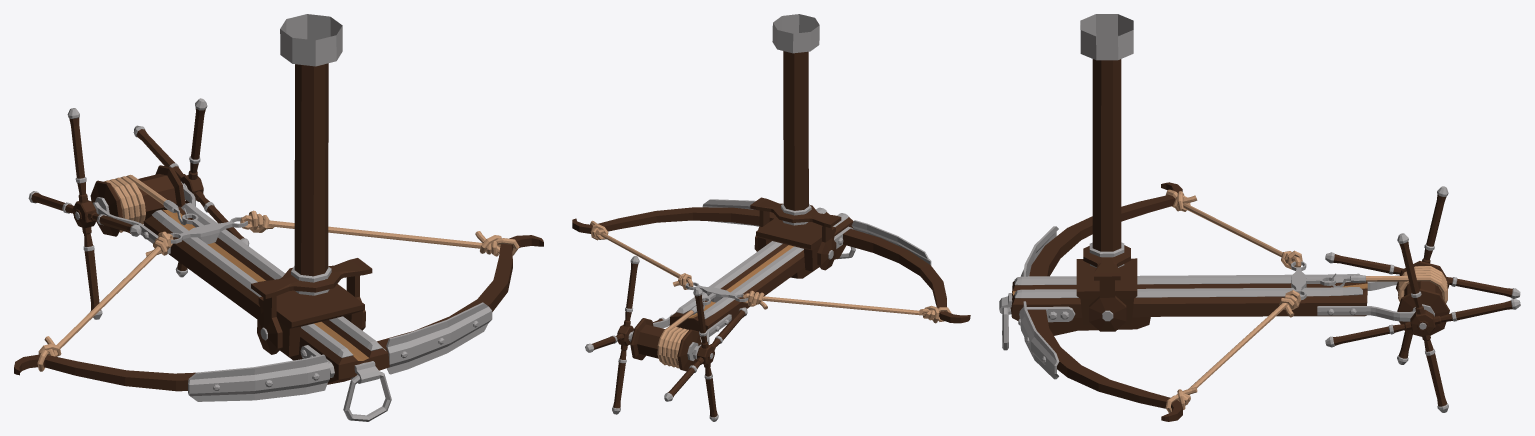
The model's file is BowTrap_1.fbx.
3 views of the same model, side by side, from view 1: azimuth 30°, elevation 25°; view 2: azimuth 150°, elevation 25°; view 3: azimuth 270°, elevation 25° (orthographic). The views are drawn at different scales.
Visible parts, largest first — view 1: BowFront, SwivelTop, BowRear, RopeMechanism, SwivelLower; view 2: BowFront, SwivelTop, BowRear, RopeMechanism, SwivelLower; view 3: BowFront, SwivelTop, BowRear, RopeMechanism, SwivelLower.
Boxes of the visible parts, x1,y1,x2,y2 form: BowFront: (14,181,543,421); SwivelTop: (280,14,342,295); BowRear: (28,98,249,319); RopeMechanism: (37,174,519,371); SwivelLower: (251,258,372,354); BowFront: (572,199,970,359); SwivelTop: (772,14,819,225); BowRear: (585,256,747,421); RopeMechanism: (590,220,951,368); SwivelLower: (750,197,841,270); BowFront: (999,182,1415,421); SwivelTop: (1080,14,1133,267); BowRear: (1325,186,1520,412); RopeMechanism: (1165,189,1447,412); SwivelLower: (1083,245,1130,331).
Size of the model in its own units: 181 by 130 by 170.
